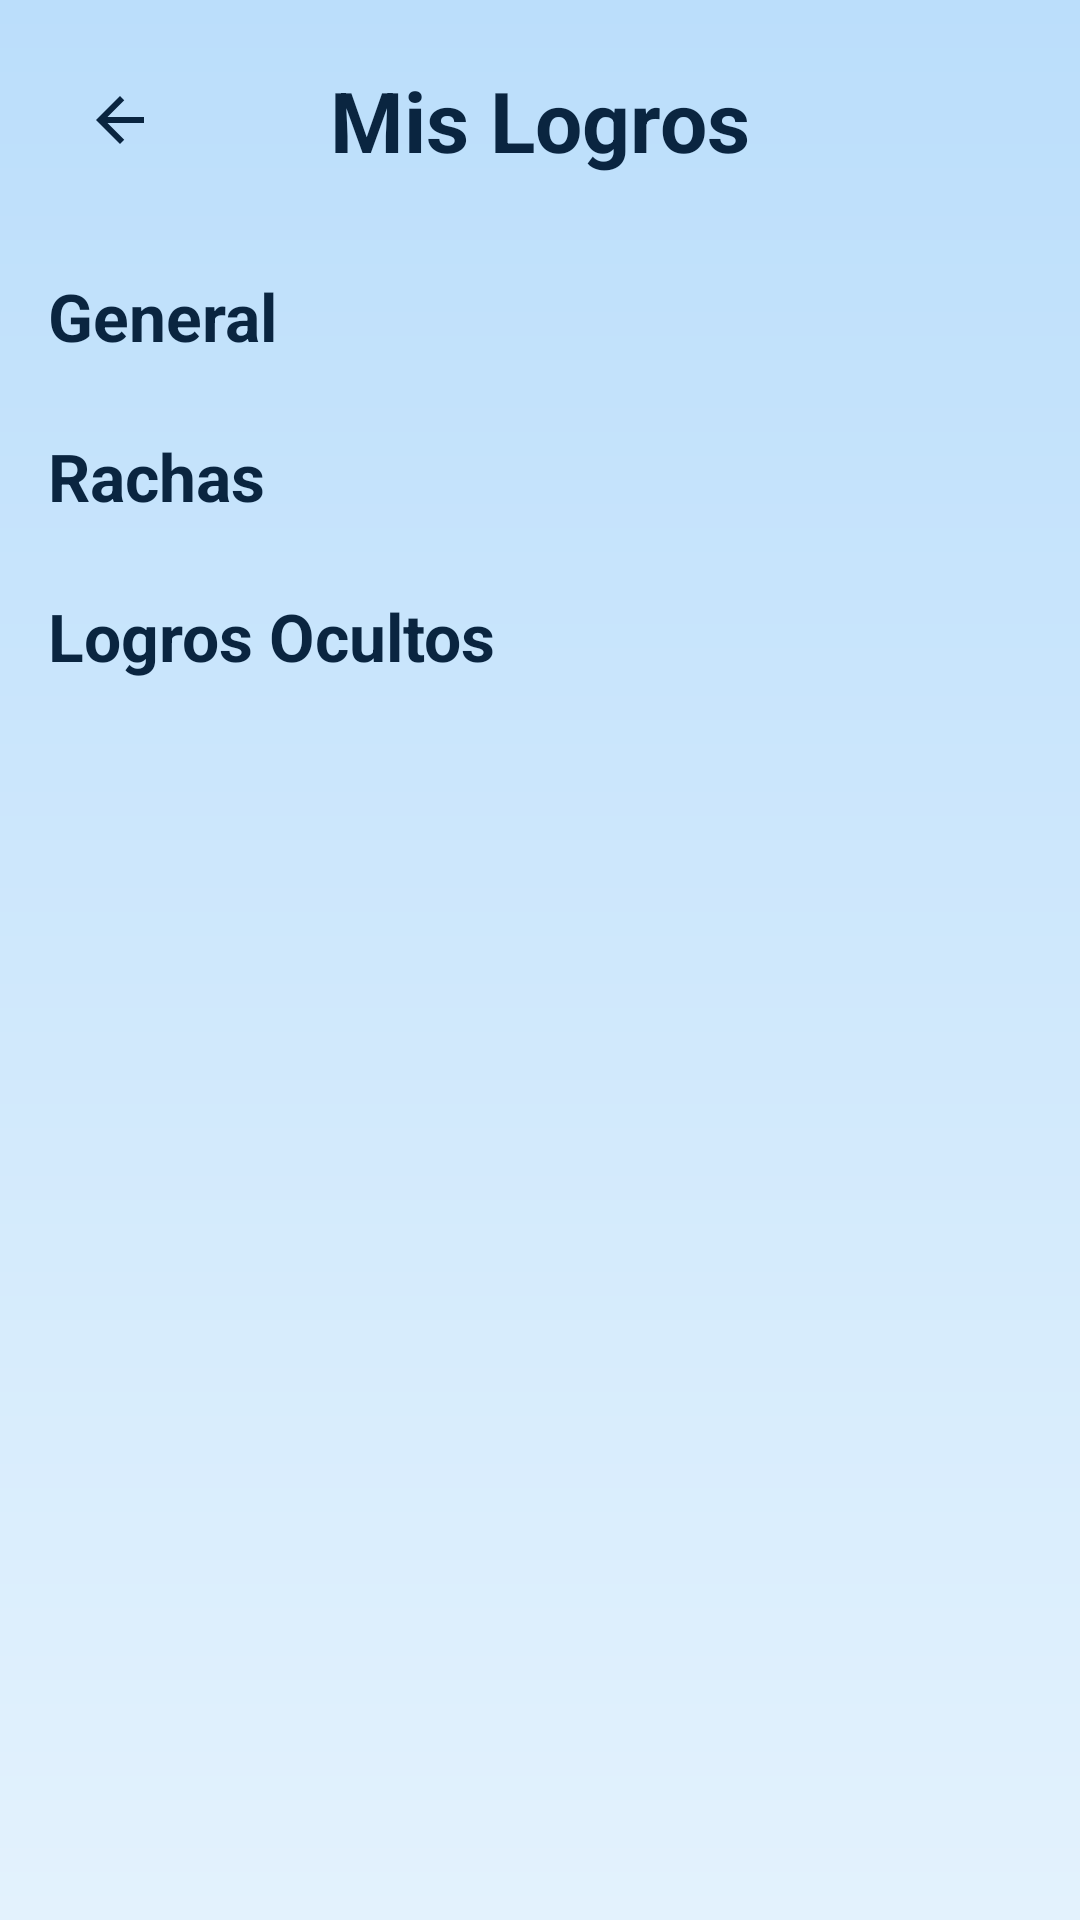

Screen size 1080px x 1920px. Icon name, then its center in pixels as (x,y):
arrow back: (120,120)
